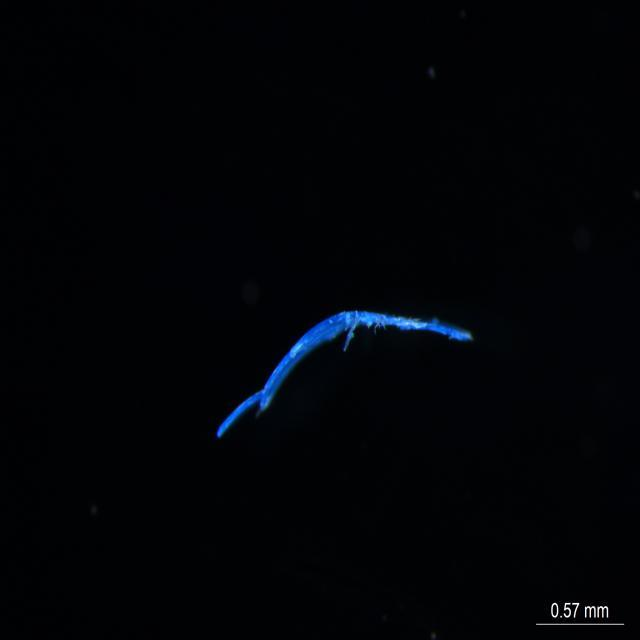fibers: (191, 271, 474, 438)
